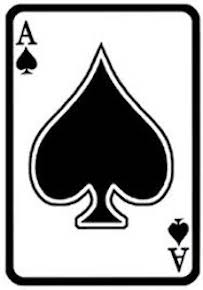AceOfSpades: (4, 1, 201, 289)
